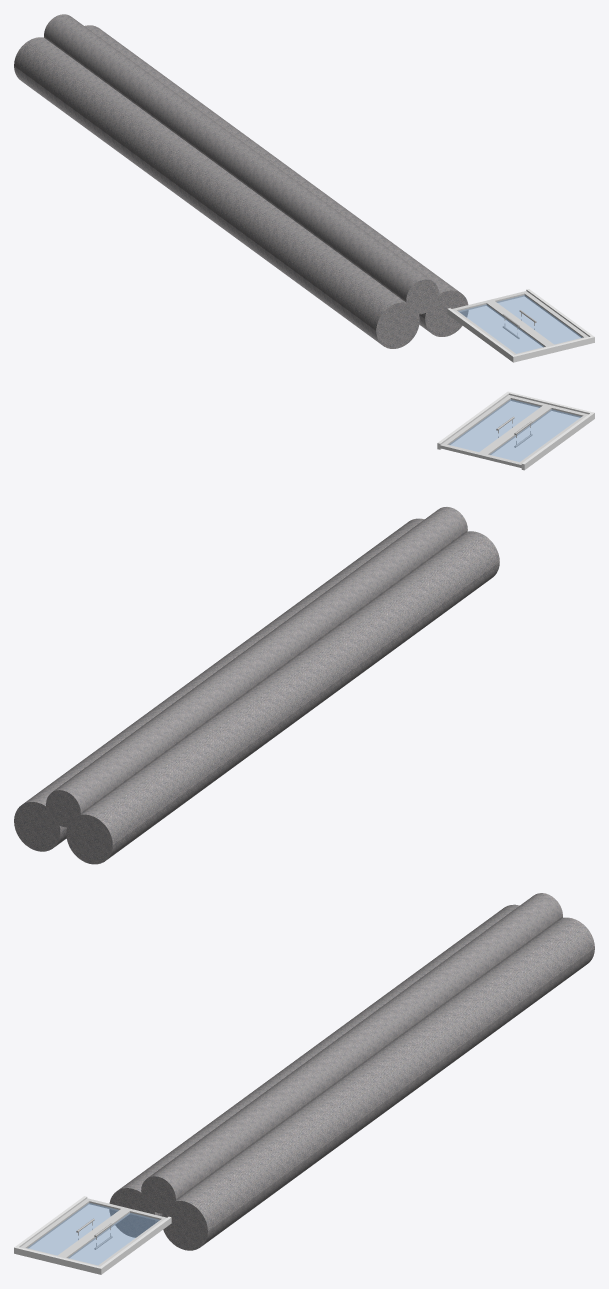
The picture shows the model from 3 angles, top to bottom: view 1: azimuth 30°, elevation 25°; view 2: azimuth 150°, elevation 25°; view 3: azimuth 330°, elevation 25°; orthographic projection. The views are drawn at different scales.
Parts seen in each view (by area): view 1: 0_3_1_2_2_0_1_0_1; view 2: 0_3_1_2_2_0_1_0_1; view 3: 0_3_1_2_2_0_1_0_1.
Part boxes in pixels (left/top/right/bottom): 0_3_1_2_2_0_1_0_1: left=14, top=14, right=594, bottom=362; 0_3_1_2_2_0_1_0_1: left=14, top=391, right=594, bottom=864; 0_3_1_2_2_0_1_0_1: left=14, top=893, right=594, bottom=1274.
Bounding box in the file's own units: 1.94 × 1.36 × 15.13.
7 materials, 3 textured.
